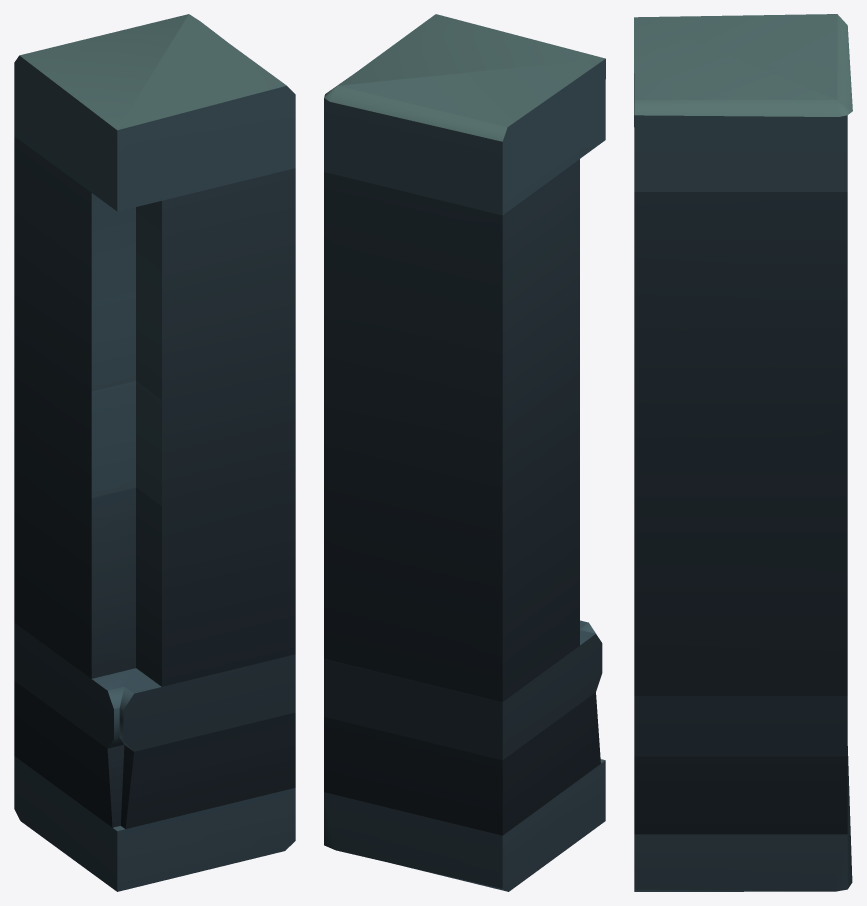
Rendered from wall_corner_conc.fbx.
The picture shows the model from 3 angles, left to right: view 1: azimuth 30°, elevation 25°; view 2: azimuth 150°, elevation 25°; view 3: azimuth 270°, elevation 25°; orthographic projection. The views are drawn at different scales.
Parts seen in each view (by area): view 1: wall_corner_conc; view 2: wall_corner_conc; view 3: wall_corner_conc.
Part boxes in pixels (x1=…): wall_corner_conc: x1=14, y1=14, x2=295, y2=891; wall_corner_conc: x1=324, y1=14, x2=605, y2=891; wall_corner_conc: x1=634, y1=14, x2=852, y2=891.
Bounding box in the file's own units: 102 × 410 × 102.
